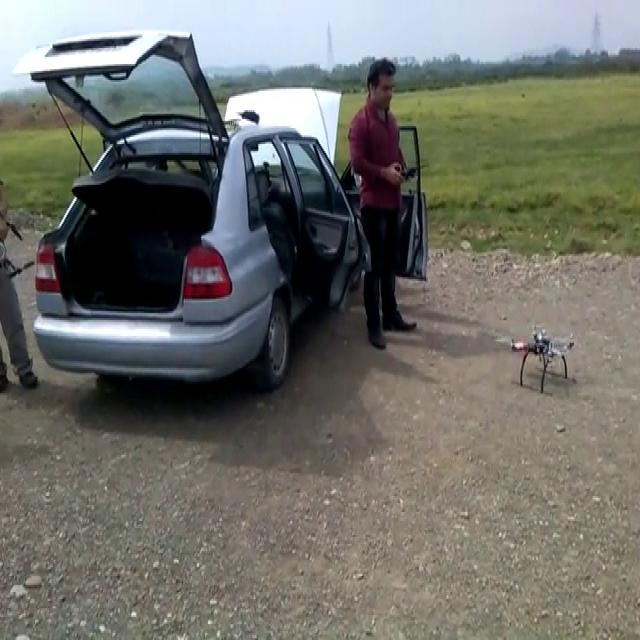drone: (505, 318, 577, 395)
